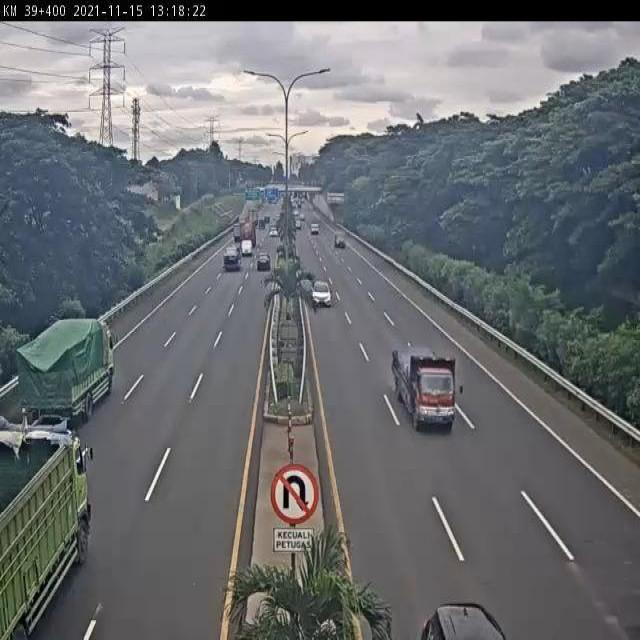car: (310, 277, 333, 308)
truck-l-: (0, 424, 90, 640)
truck-m-: (18, 319, 115, 421), (392, 340, 457, 432)
